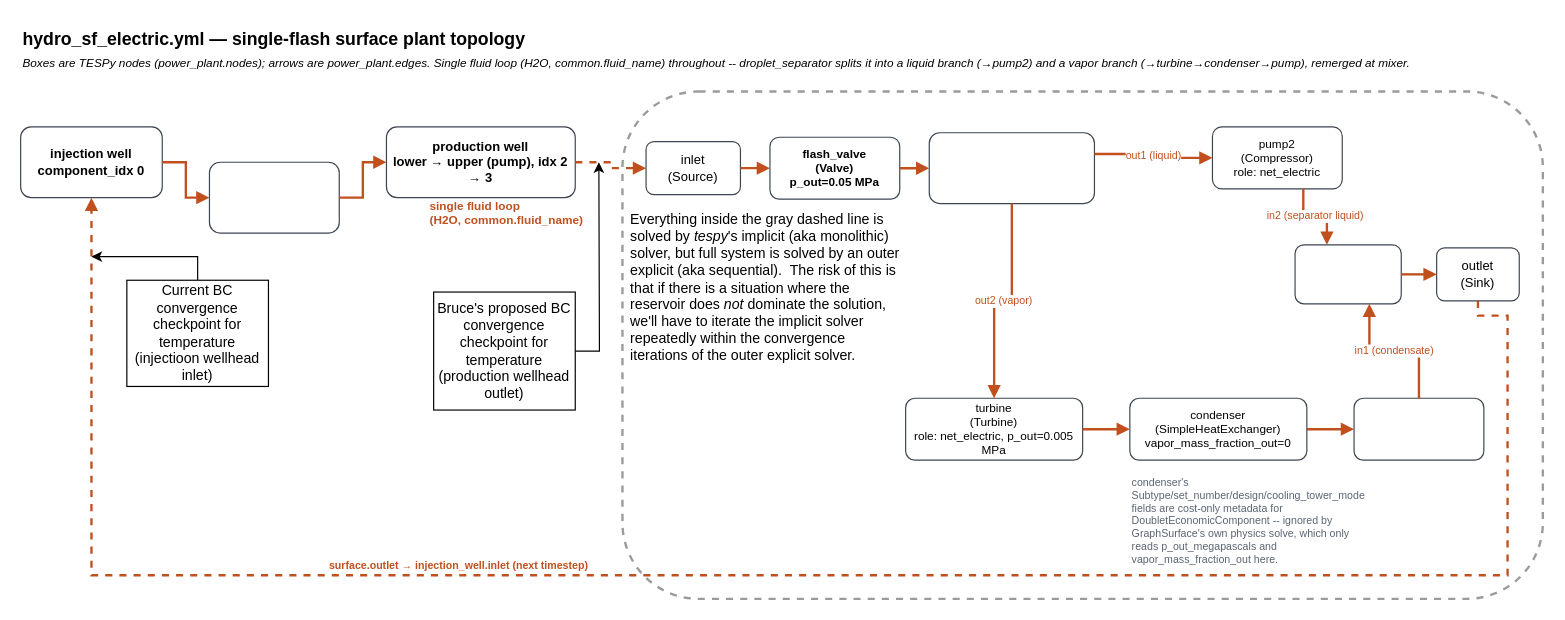
This 1565x620 diagram has some shape labels left out. The box of each missing label's shape, as (x1, y1, x2, y2) in pixels:
droplet_separator (DropletSeparator): (928, 132, 1094, 204)
mixer (Merge): (1294, 244, 1401, 304)
pump (Compressor) role: net_electric: (1353, 397, 1484, 460)
reservoir idx 1: (208, 161, 339, 233)
surface plant (GraphSurface) — idx 4 — power_plant.nodes/edges: (621, 90, 1543, 599)
